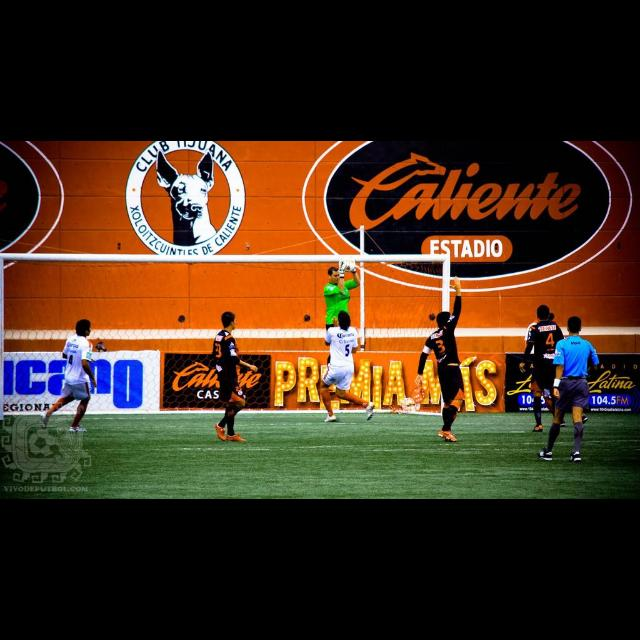Football: (338, 255, 354, 271)
